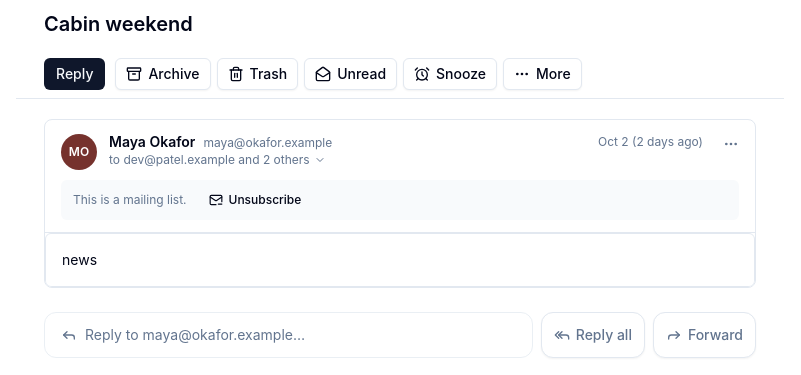
Scenario: mailing lists › unsubscribes through the server and says so
Click the button "Unsubscribe" at (255, 200), box [198,186,311,214]
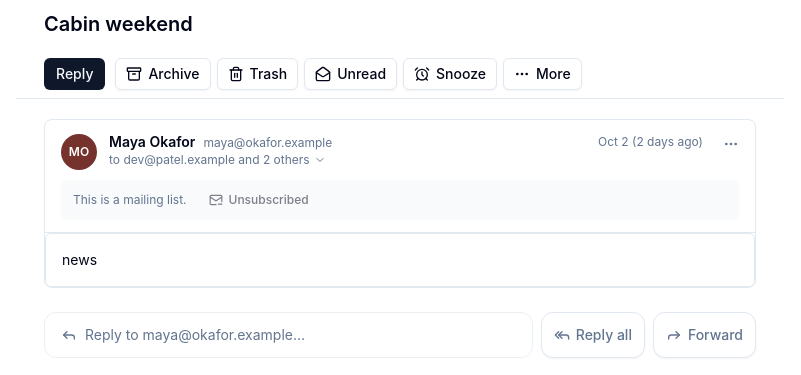
Now the button "Unsubscribed" is disabled, box [198,186,319,214]
